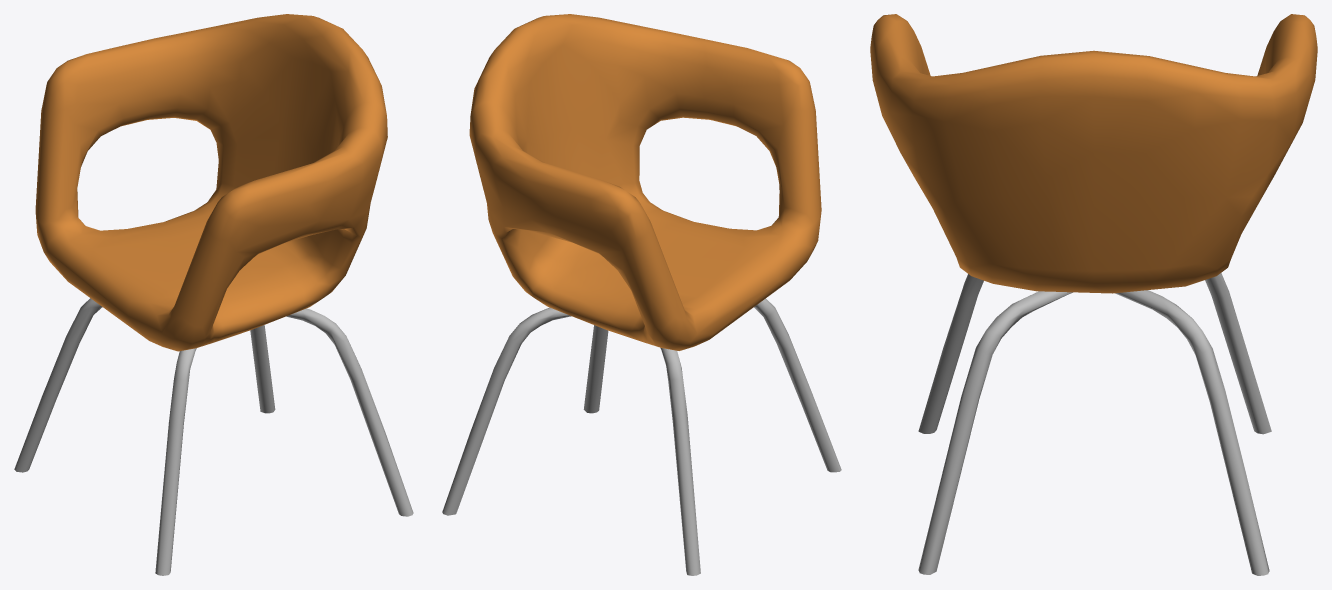
File: chair_07_orange.fbx
The picture shows the model from 3 angles, left to right: view 1: azimuth 30°, elevation 25°; view 2: azimuth 150°, elevation 25°; view 3: azimuth 270°, elevation 25°; orthographic projection. The views are drawn at different scales.
Parts seen in each view (by area): view 1: chair_07_orange; view 2: chair_07_orange; view 3: chair_07_orange.
Boxes of the visible parts, x1,y1,x2,y2 form: chair_07_orange: [14, 14, 413, 575]; chair_07_orange: [442, 14, 841, 575]; chair_07_orange: [870, 14, 1317, 575].
Size of the model in its own units: 51.53 by 81.16 by 63.67.
2 materials, 2 textured.
